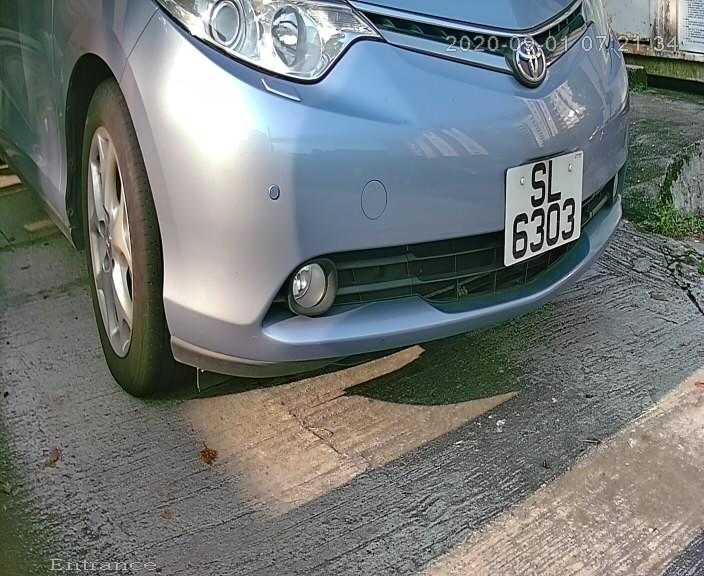License Plate: (497, 139, 591, 268)
